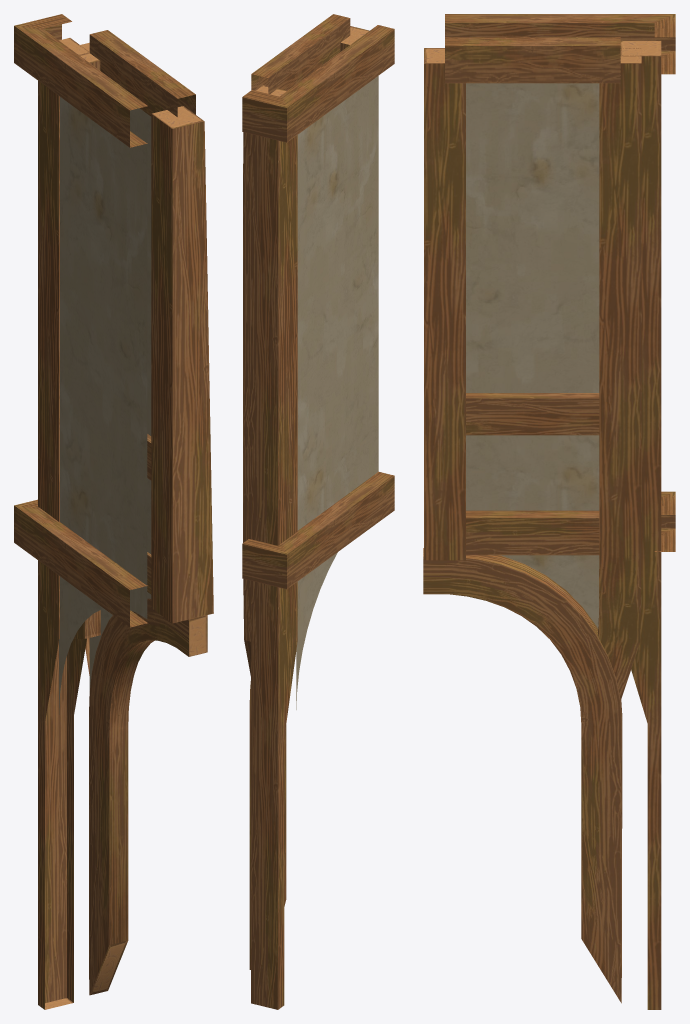
The model's file is Overhang_Side_Plaster_Short_R.gltf.
3 views of the same model, side by side, from view 1: azimuth 30°, elevation 25°; view 2: azimuth 150°, elevation 25°; view 3: azimuth 270°, elevation 25° (orthographic). The views are drawn at different scales.
Parts seen in each view (by area): view 1: Overhang_Side_Plaster_Short_R; view 2: Overhang_Side_Plaster_Short_R; view 3: Overhang_Side_Plaster_Short_R.
Boxes of the visible parts, <box> form: Overhang_Side_Plaster_Short_R: <box>14,14,213,1009</box>; Overhang_Side_Plaster_Short_R: <box>242,14,394,1009</box>; Overhang_Side_Plaster_Short_R: <box>423,14,675,1009</box>.
Size of the model in its own units: 0.4793 by 6.12 by 1.44.
2 materials, 2 textured.
